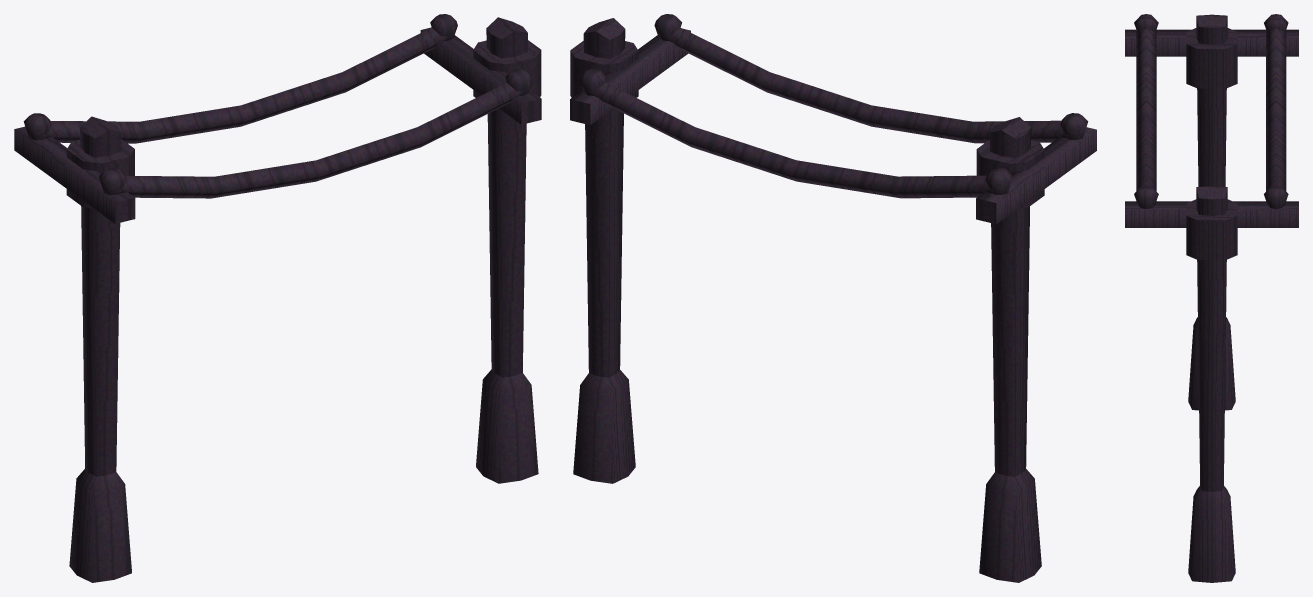
File: electricity-pole.raw.glb
3 views of the same model, side by side, from view 1: azimuth 30°, elevation 25°; view 2: azimuth 150°, elevation 25°; view 3: azimuth 270°, elevation 25° (orthographic). The views are drawn at different scales.
Visible parts, largest first — view 1: electricity-pole; view 2: electricity-pole; view 3: electricity-pole.
Part boxes in pixels (<box>): electricity-pole: <box>14,14,541,582</box>; electricity-pole: <box>570,14,1096,582</box>; electricity-pole: <box>1125,14,1298,582</box>.
Bounding box in the file's own units: 7.5 × 6.8 × 2.77.
1 material, 1 textured.
